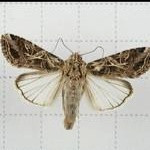Spodoptera litura: (1, 32, 149, 129)
